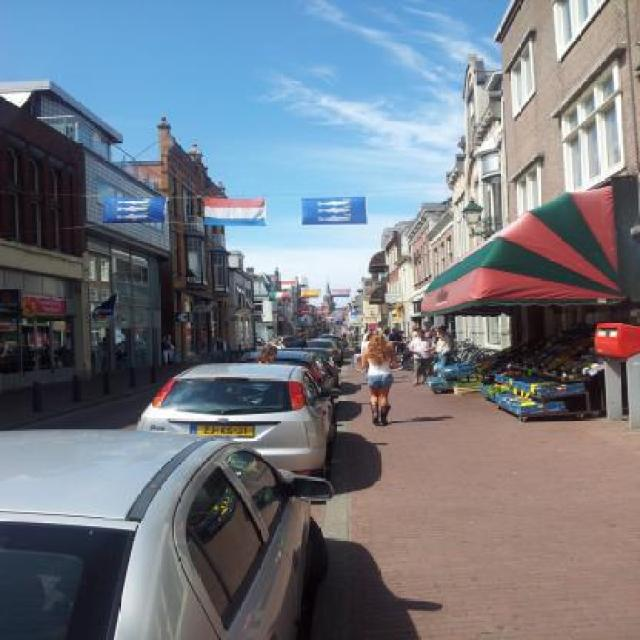Person: (358, 325, 456, 386), (357, 338, 403, 420), (252, 345, 286, 367), (159, 335, 176, 371), (289, 334, 308, 348), (271, 339, 284, 352)
